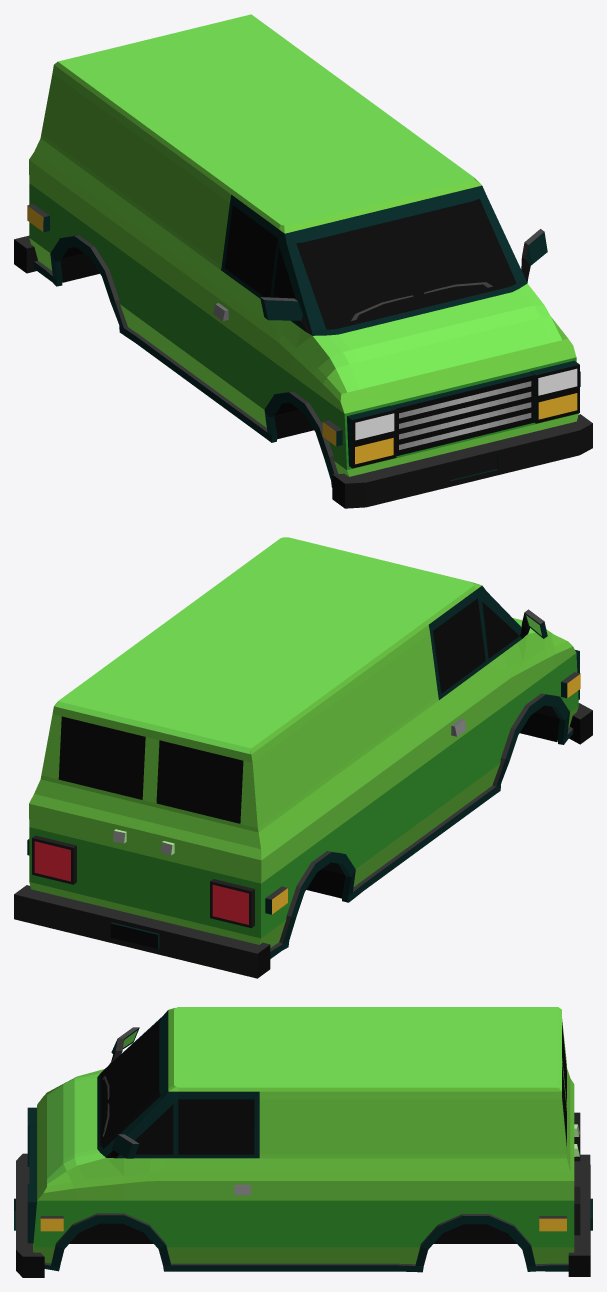
Rendered from Van.004.fbx.
3 views of the same model, one above another, from view 1: azimuth 30°, elevation 25°; view 2: azimuth 150°, elevation 25°; view 3: azimuth 270°, elevation 25° (orthographic). The views are drawn at different scales.
Parts seen in each view (by area): view 1: Van.004; view 2: Van.004; view 3: Van.004.
Part boxes in pixels (<box>): Van.004: <box>14,14,592,508</box>; Van.004: <box>14,537,592,978</box>; Van.004: <box>14,1007,592,1277</box>.
Bounding box in the file's own units: 1.92 × 1.38 × 4.03.
